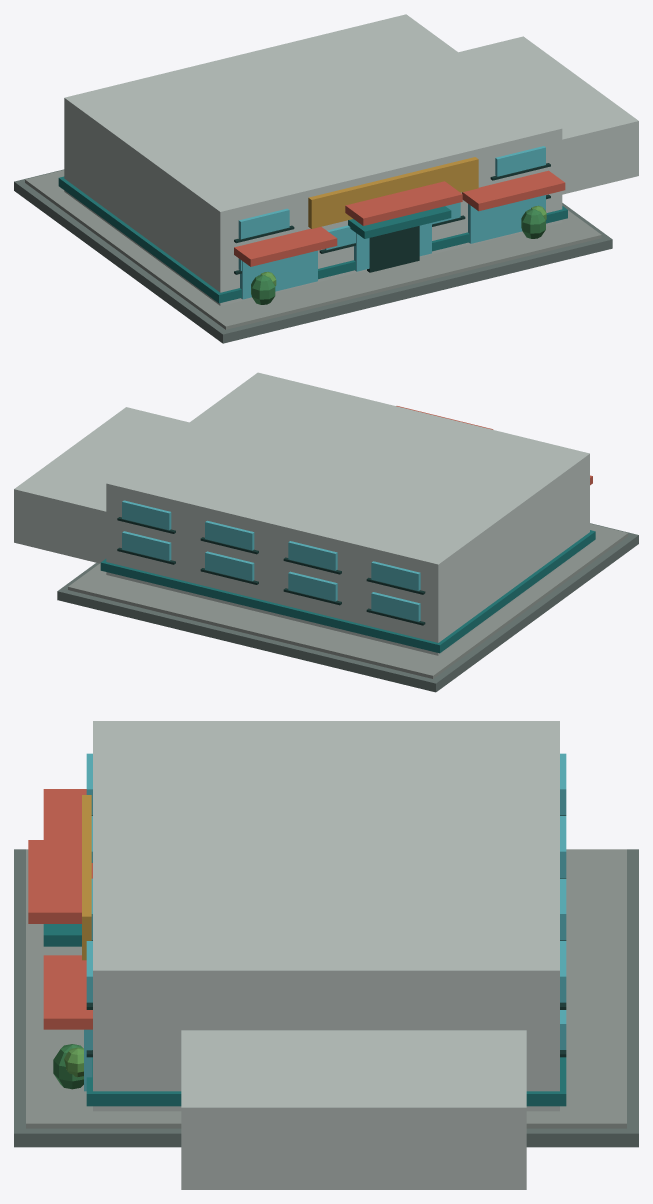
The model's file is supermarket_lv3.glb.
3 renders of one model, top to bottom at view 1: azimuth 30°, elevation 25°; view 2: azimuth 150°, elevation 25°; view 3: azimuth 270°, elevation 25°, orthographic. The views are drawn at different scales.
Parts seen in each view (by area): view 1: rough, glossy; view 2: rough, glossy; view 3: rough, glossy.
Part boxes in pixels (x1,y1,x2,y2): rough: (14,14,638,343); glossy: (238,146,545,299); rough: (14,372,638,692); glossy: (122,500,420,621); rough: (14,721,638,1189); glossy: (84,753,566,1091).
Size of the model in its own units: 11.87 by 2.56 by 9.1.
